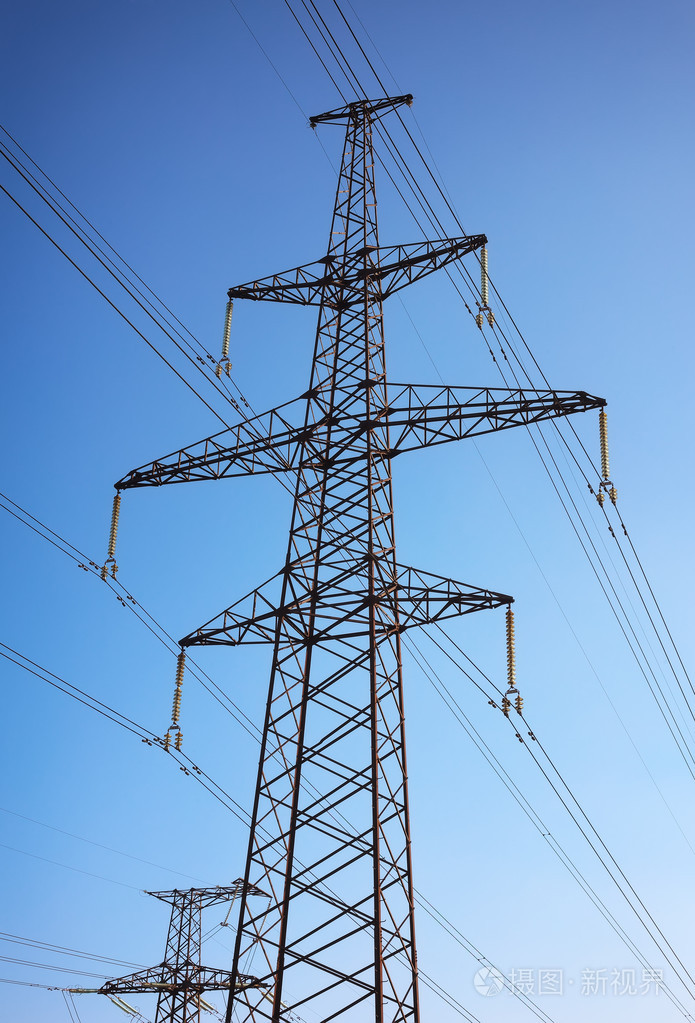insulator: (165, 651, 190, 729), (499, 610, 522, 689), (218, 298, 237, 359), (105, 494, 122, 560), (595, 408, 609, 480), (478, 249, 496, 303)
